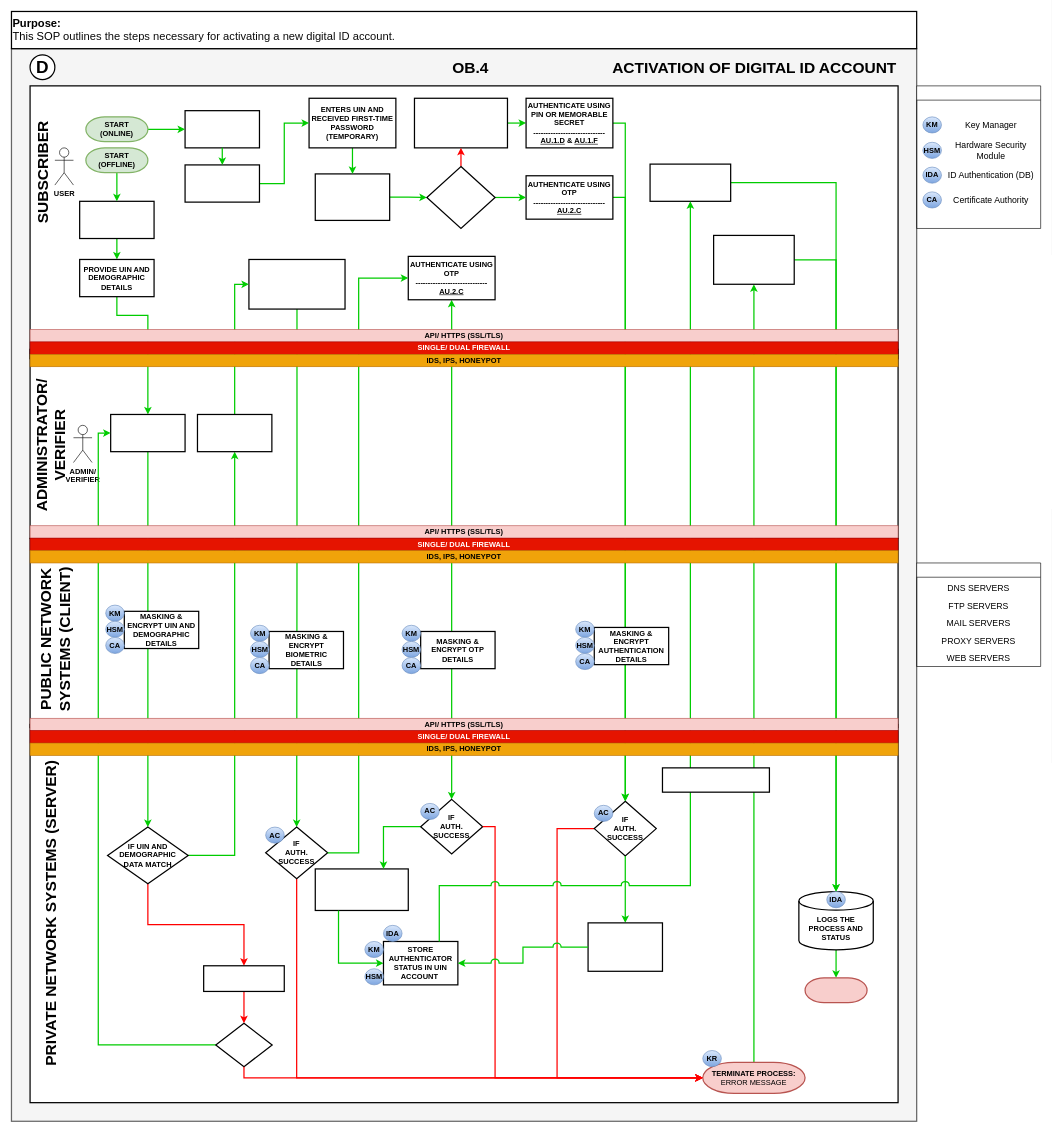
The diagram is 1052 pixels wide and 1132 high, and some of its shapes have lost their labels. Here are the shapes that lost their labels. From the top down, the box of each, then its label:
(184, 110, 260, 148): RECEIVE DID AND LETTER WITH ACCOUNT DETAILS
(414, 97, 508, 148): SET UP PIN OR MEMORABLE SECRET ----------------------------- AU.1.C & AU.1.E
(916, 85, 1041, 228): LEGEND
(184, 164, 260, 202): VISIT DID PORTAL
(314, 173, 390, 221): CREATION OF STRONG PASSWORD ----------------------------- AU.1.A
(426, 166, 495, 229): IF MAIL/ PHONE PROVIDED
(649, 163, 731, 202): RECEIVE ACCOUNT ACTIVATED NOTIFICATION ON EMAIL AND PHONE
(79, 200, 154, 239): VISIT DID ENROLMENT/ THIRD PARTY CENTRE
(713, 234, 795, 285): RECEIVE ACCOUNT ACTIVATION UNSUCCESSFUL NOTIFICATION ON EMAIL AND PHONE
(248, 259, 345, 309): AUTHENTICATE USING (ONE): FINGERPRINT: AU.3.B IRIS: AU.3.C FACIAL: AU.3.D
(110, 414, 185, 452): VERIFY UIN AND DEMOGRAPHIC DATA MATCH
(197, 414, 272, 452): REQUEST BIOMETRIC AUTHENTICATION
(916, 562, 1041, 666): PUBLIC NETWORK
(662, 767, 770, 792): NOTIFICATION GENERATOR
(314, 868, 409, 911): ACTIVATE DID ACCOUNT AND AVAILABLE AUTHENTICATORS FOR OFFLINE AUTH.
(587, 922, 663, 972): ACTIVATE DID ACCOUNT AND AVAILABLE AUTHENTICATORS FOR ONLINE AUTH.
(203, 965, 285, 992): EXCEPTION AND ERROR HANDLING (COUNTER)
(804, 977, 867, 1003): END
(215, 1022, 272, 1067): IF RETRY COUNT<=3
